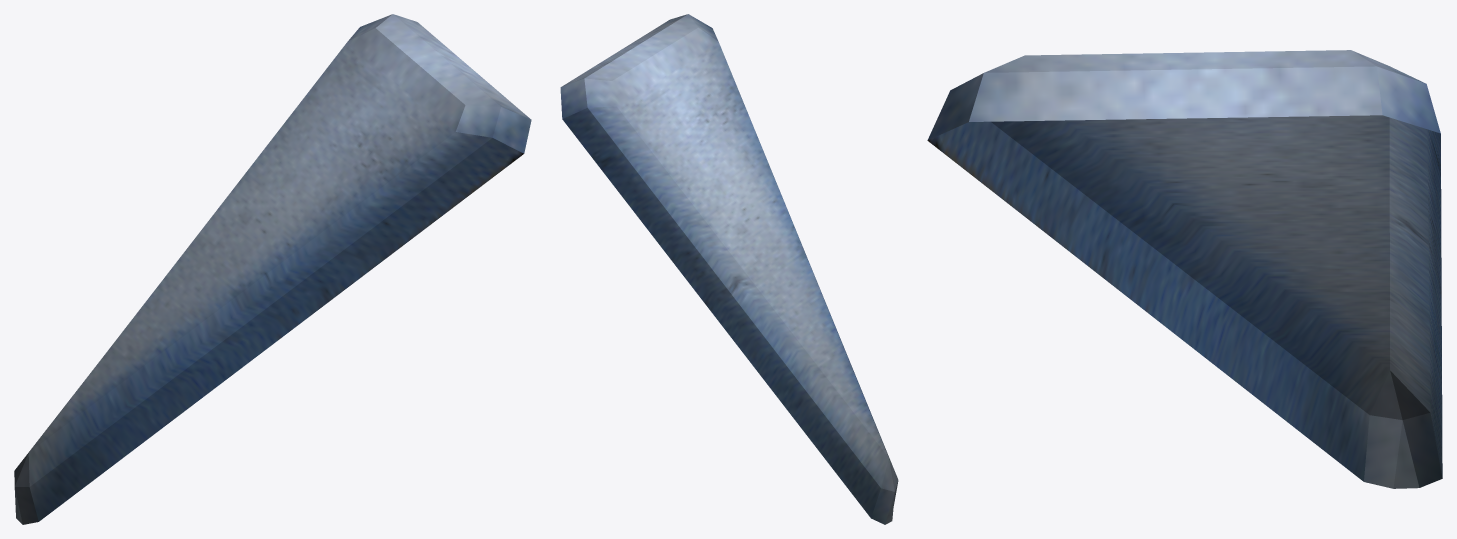
The model's file is 02_05_computer_scan_storage_button_right.dae.
3 views of the same model, side by side, from view 1: azimuth 30°, elevation 25°; view 2: azimuth 150°, elevation 25°; view 3: azimuth 270°, elevation 25° (orthographic). The views are drawn at different scales.
Parts seen in each view (by area): view 1: polySurface169; view 2: polySurface169; view 3: polySurface169.
Boxes of the visible parts, left/top/right/bottom form: polySurface169: left=14, top=14, right=531, bottom=524; polySurface169: left=560, top=14, right=898, bottom=524; polySurface169: left=927, top=50, right=1442, bottom=488.
Bounding box in the file's own units: 0.0967 × 0.0989 × 0.0635.
